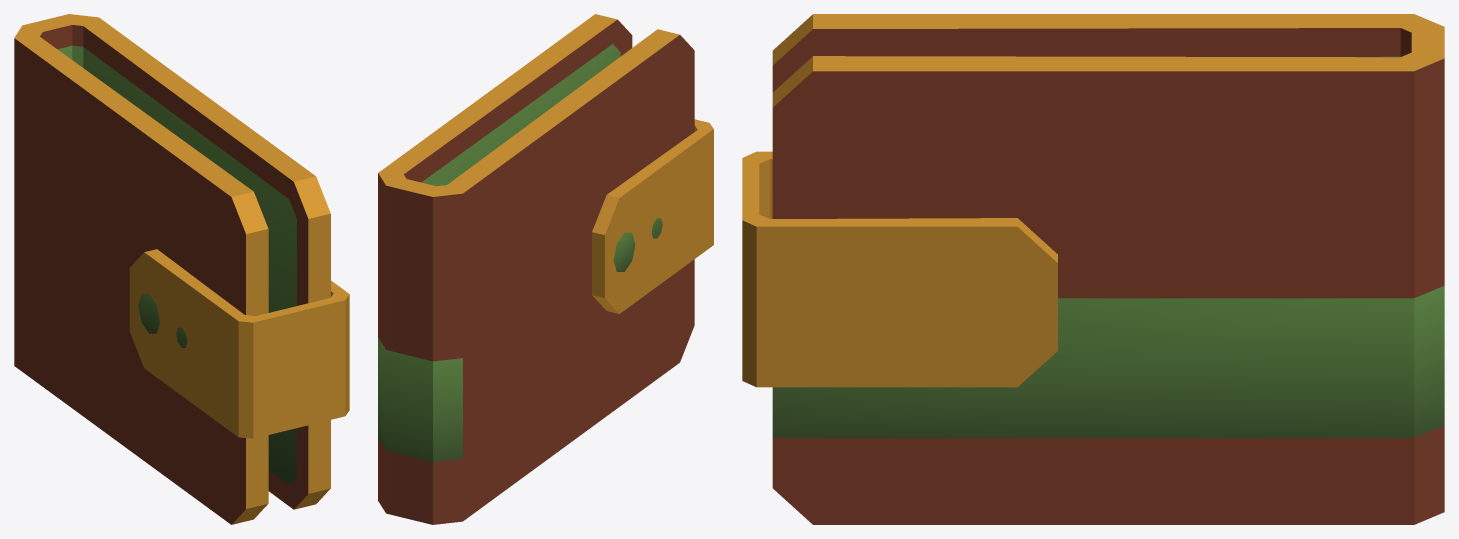
File: collectable_wallet.fbx
The picture shows the model from 3 angles, left to right: view 1: azimuth 30°, elevation 25°; view 2: azimuth 150°, elevation 25°; view 3: azimuth 270°, elevation 25°; orthographic projection. The views are drawn at different scales.
Visible parts, largest first — view 1: quest_wallet; view 2: quest_wallet; view 3: quest_wallet.
Part boxes in pixels (box(x1,y1,x2,y2)): quest_wallet: box(14, 14, 349, 524); quest_wallet: box(378, 14, 713, 524); quest_wallet: box(742, 14, 1444, 524).
Bounding box in the file's own units: 0.069 × 0.1943 × 0.2726.
